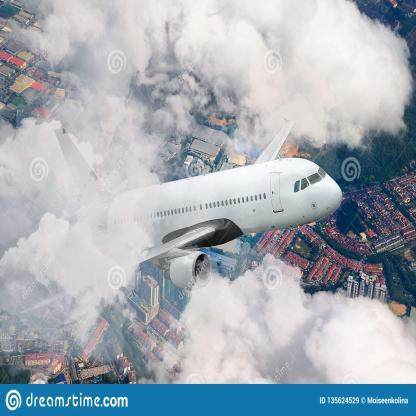CIV_Plane: (25, 117, 346, 322)
